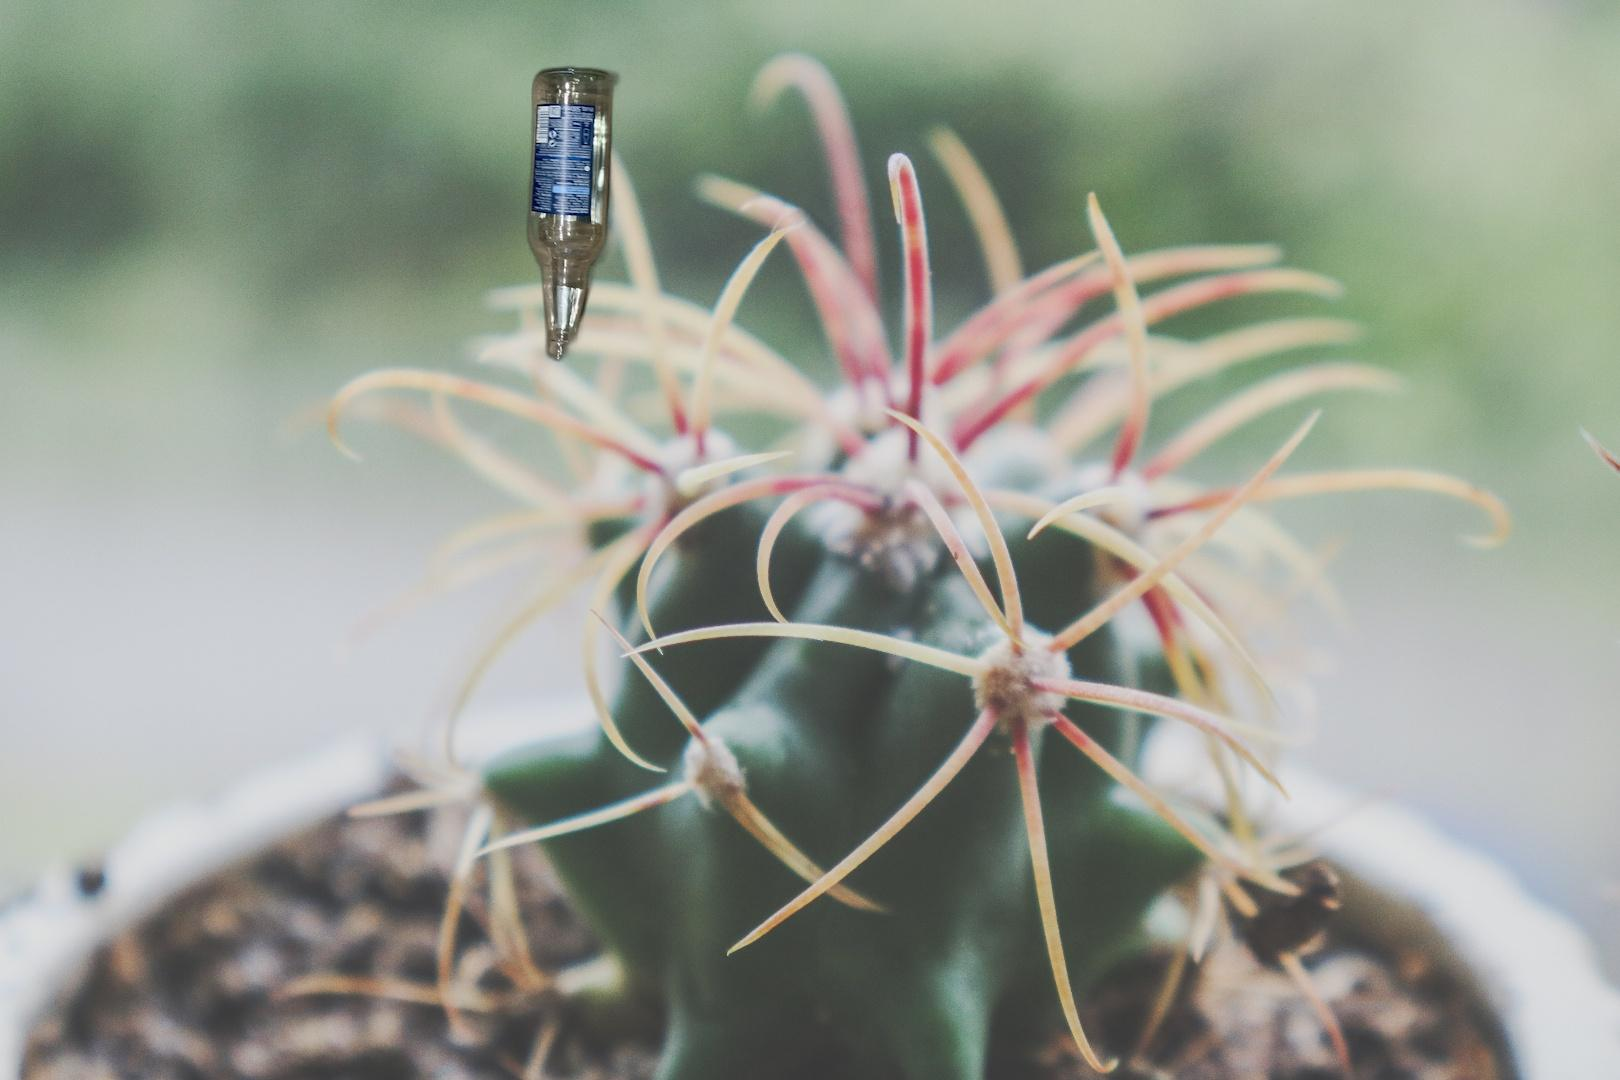glass: (524, 61, 626, 366)
